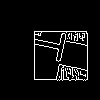T: (25, 25, 76, 65)
